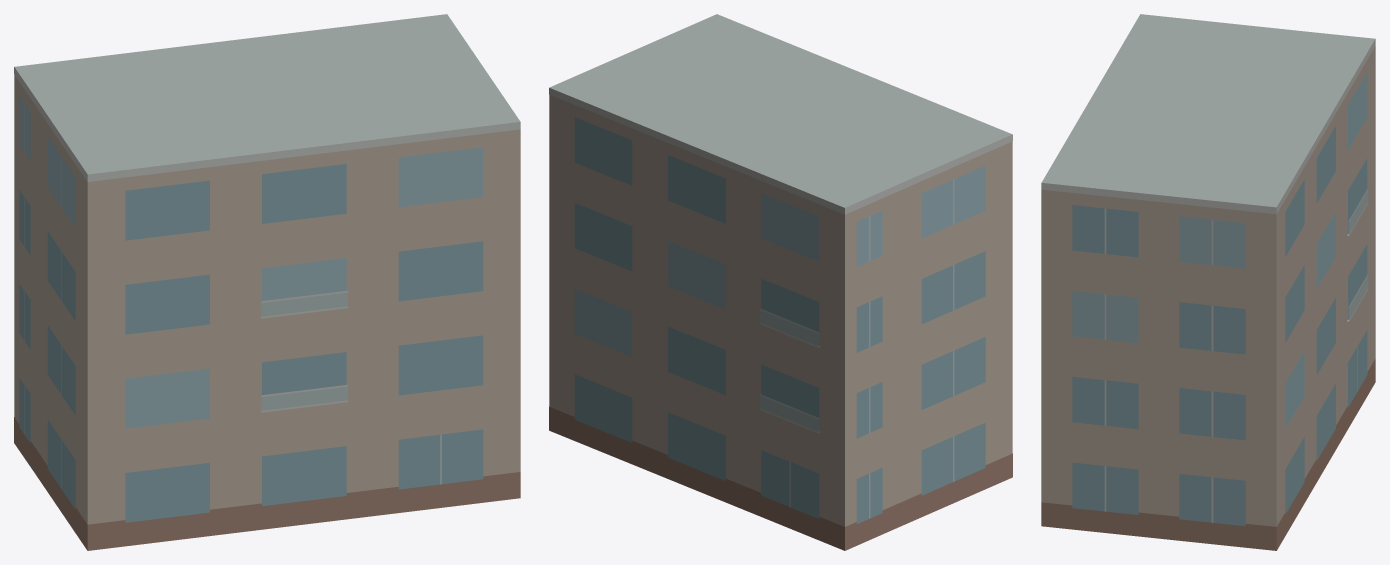
Rendered from residential-4e5d6015-7d5d-4049-a8de-1d72beb9be5d.glb.
The picture shows the model from 3 angles, left to right: view 1: azimuth 30°, elevation 25°; view 2: azimuth 150°, elevation 25°; view 3: azimuth 270°, elevation 25°; orthographic projection. The views are drawn at different scales.
Visible parts, largest first — view 1: residential-4e5d6015-7d5d-4049-a8de-1d72beb9be5d.tmp; view 2: residential-4e5d6015-7d5d-4049-a8de-1d72beb9be5d.tmp; view 3: residential-4e5d6015-7d5d-4049-a8de-1d72beb9be5d.tmp.
Boxes of the visible parts, x1=… form: residential-4e5d6015-7d5d-4049-a8de-1d72beb9be5d.tmp: x1=14, y1=14, x2=520, y2=550; residential-4e5d6015-7d5d-4049-a8de-1d72beb9be5d.tmp: x1=549, y1=14, x2=1012, y2=550; residential-4e5d6015-7d5d-4049-a8de-1d72beb9be5d.tmp: x1=1041, y1=14, x2=1375, y2=550.
Bounding box in the file's own units: 14.74 × 12.2 × 10.77.
